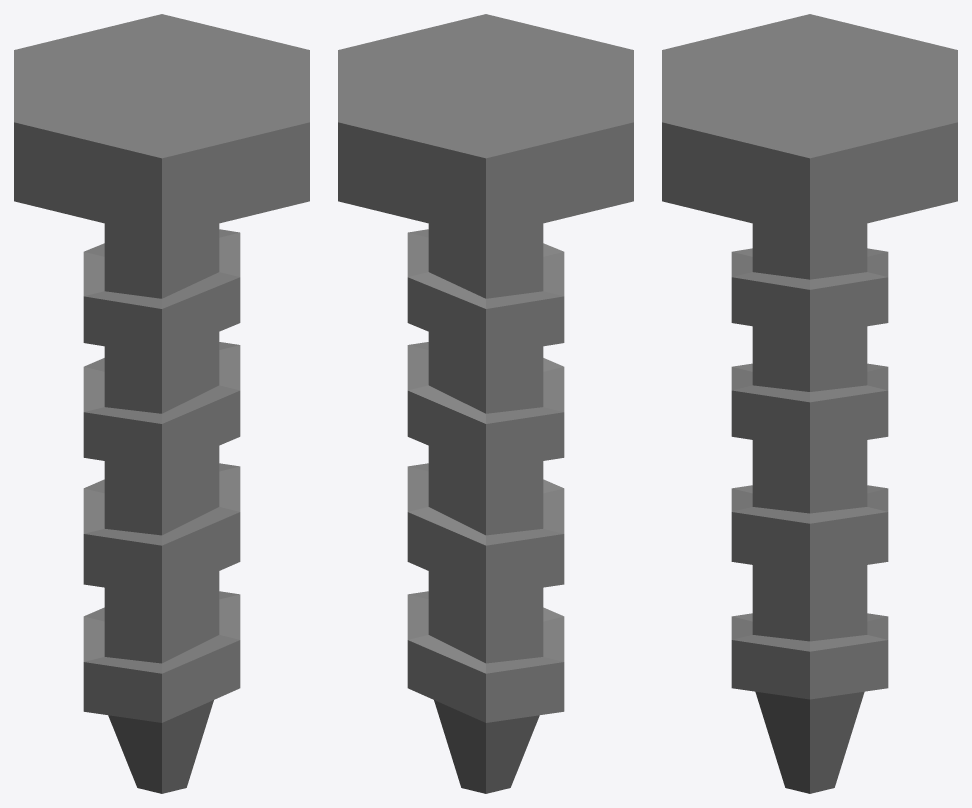
File: Screw.fbx
3 views of the same model, side by side, from view 1: azimuth 30°, elevation 25°; view 2: azimuth 150°, elevation 25°; view 3: azimuth 270°, elevation 25° (orthographic).
Parts seen in each view (by area): view 1: Screw; view 2: Screw; view 3: Screw.
Part boxes in pixels (x1,y1,x2,y2): Screw: (14,14,309,793); Screw: (338,14,633,793); Screw: (662,14,957,793).
Bounding box in the file's own units: 11.14 × 25.03 × 9.65.
1 material, 1 textured.
